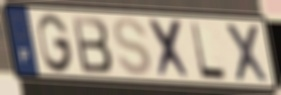B: (70, 14, 115, 74)
G: (36, 12, 75, 75)
L: (188, 20, 230, 82)
S: (111, 16, 154, 78)
X: (223, 21, 272, 85), (146, 17, 194, 82)
